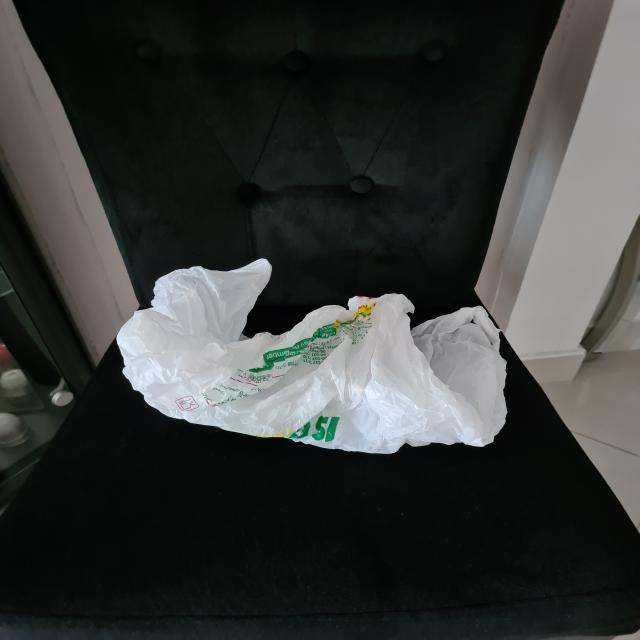plastic: (116, 259, 510, 454)
